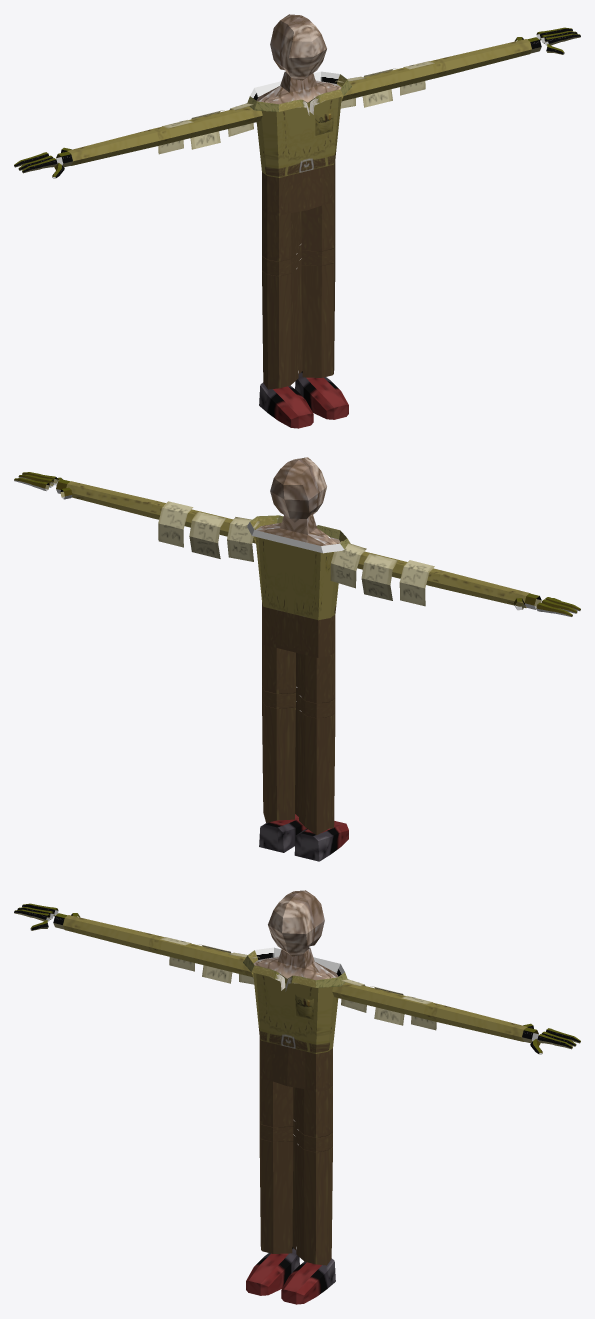
The model's file is tposetaxman.glb.
3 views of the same model, one above another, from view 1: azimuth 30°, elevation 25°; view 2: azimuth 150°, elevation 25°; view 3: azimuth 330°, elevation 25° (orthographic).
Parts seen in each view (by area): view 1: ourguy; view 2: ourguy; view 3: ourguy.
Part boxes in pixels (x1,y1,x2,y2): ourguy: [14, 14, 580, 428]; ourguy: [14, 457, 580, 861]; ourguy: [14, 890, 580, 1304].
Size of the model in its own units: 5.26 by 3.49 by 0.6392.
2 materials, 2 textured.
